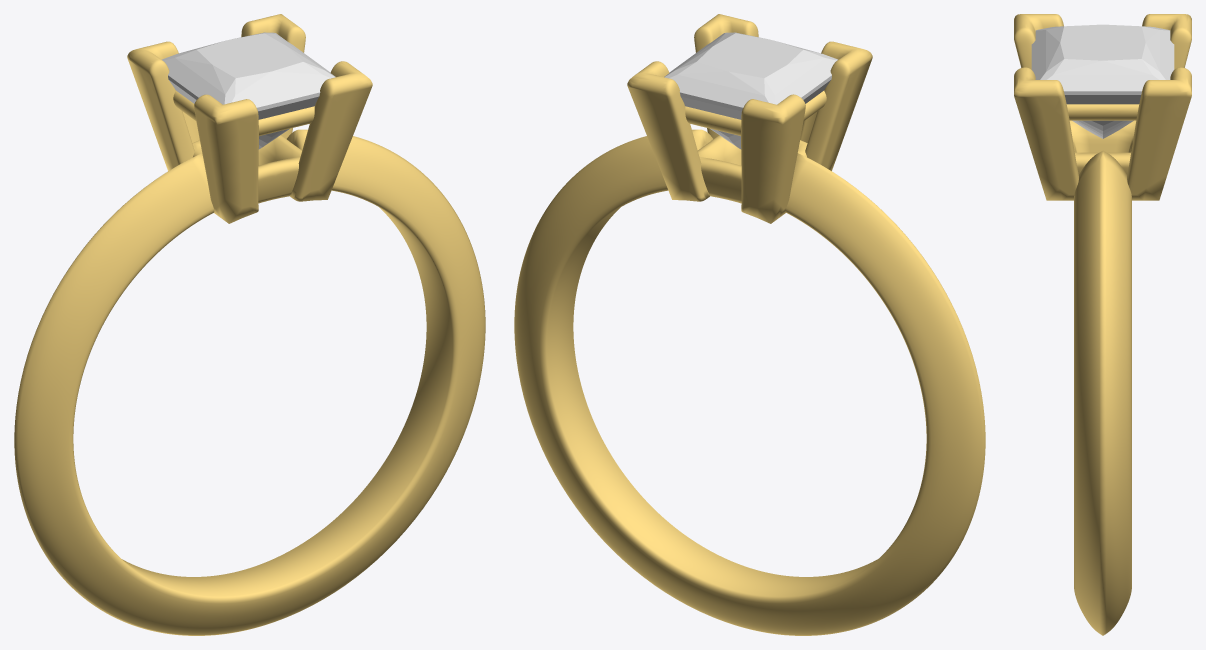
File: diamond-princess-yellowgold-protectededges4prongs-knifeedge-solitaire.glb
3 renders of one model, left to right at view 1: azimuth 30°, elevation 25°; view 2: azimuth 150°, elevation 25°; view 3: azimuth 270°, elevation 25°, orthographic.
Visible parts, largest first — view 1: metal, stone; view 2: metal, stone; view 3: metal, stone.
Boxes of the visible parts, bbox=[...] form: metal: bbox=[14, 14, 485, 635]; stone: bbox=[162, 32, 335, 149]; metal: bbox=[514, 14, 985, 635]; stone: bbox=[664, 32, 837, 149]; metal: bbox=[1014, 14, 1191, 635]; stone: bbox=[1031, 24, 1174, 138].
Bounding box in the file's own units: 20.5 × 23.85 × 6.77.
